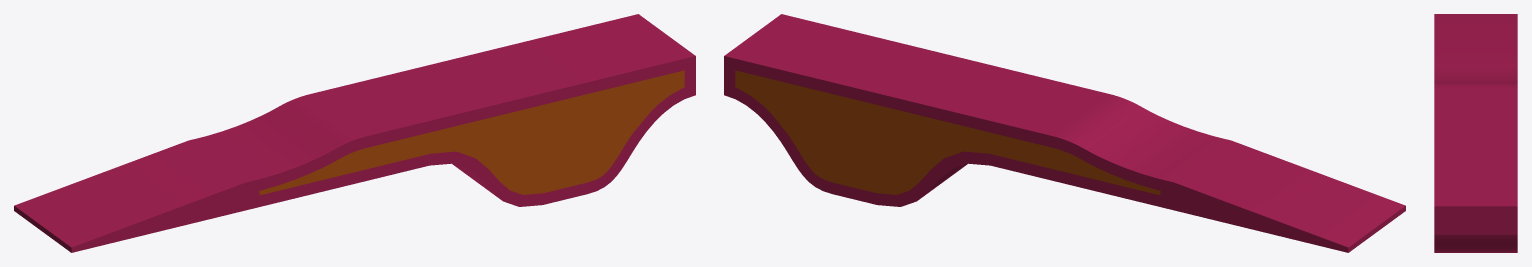
File: GardenPlatform16.fbx
3 views of the same model, side by side, from view 1: azimuth 30°, elevation 25°; view 2: azimuth 150°, elevation 25°; view 3: azimuth 270°, elevation 25° (orthographic). The views are drawn at different scales.
Parts seen in each view (by area): view 1: GardenPlatform16; view 2: GardenPlatform16; view 3: GardenPlatform16.
Boxes of the visible parts, x1,y1,x2,y2 form: GardenPlatform16: [14, 14, 695, 252]; GardenPlatform16: [724, 14, 1405, 252]; GardenPlatform16: [1434, 14, 1517, 252].
Bounding box in the file's own units: 4261 × 729 × 678.
